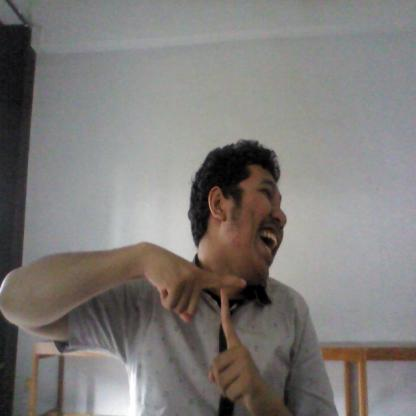T: (138, 242, 254, 409)
